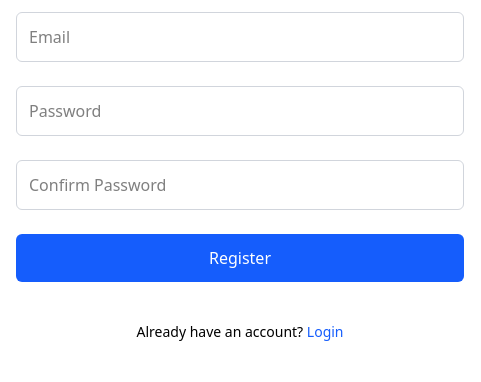
Scenario: RegisterForm › shows validation errors for invalid email
In the field with placeholder "Email": (240, 37) [16,12,464,62], type "invalid-email"
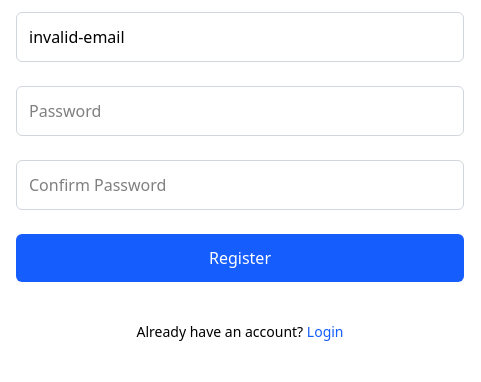
Leave the field with placeholder "Email", box [16,12,464,62]
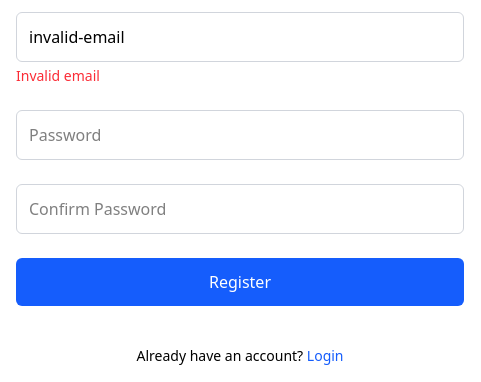
Check: the text "Invalid email" is shown, box [16,66,100,85]
